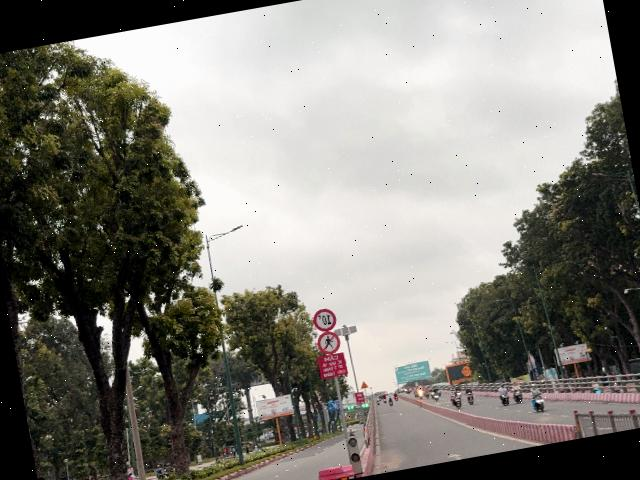cam-nguoi-di-bo: (316, 329, 342, 356)
han-che-trong-luong-xe: (312, 306, 338, 332)
